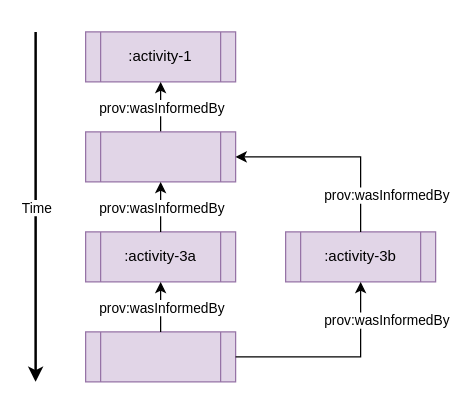
The diagram is 470 pixels wide and 414 high, and some of its shapes have lost their labels. Here are the shapes that lost their labels. From the top down, the centre of each, then its label:
the point at 160,156: :activity-2
the point at 160,356: :activity-4
